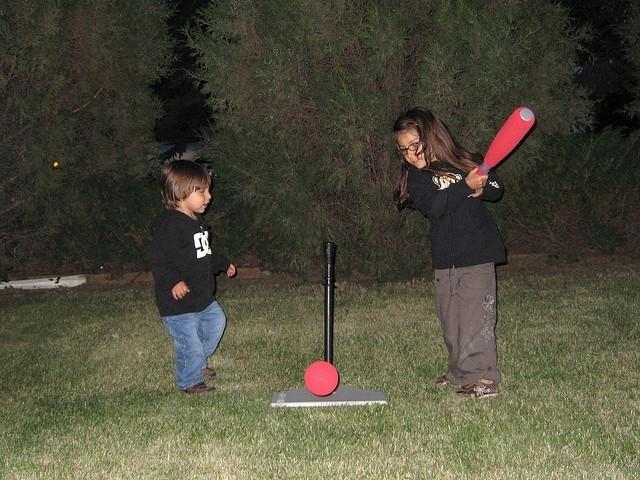car: (152, 138, 215, 180)
